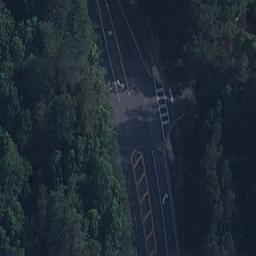Chevron: (127, 149, 159, 256)
Crosswalk: (152, 78, 172, 139)
Double Solid Yellow Line: (103, 1, 132, 95)
Left Turn Arrow: (116, 78, 126, 90), (161, 193, 168, 206)
Solid White Line: (148, 149, 169, 253)
Stop Line: (166, 87, 179, 106)
White Dashed Line: (98, 19, 121, 100)
